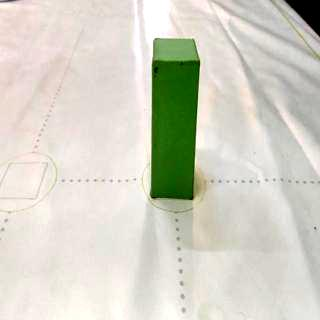greenbox: (150, 36, 202, 200)
